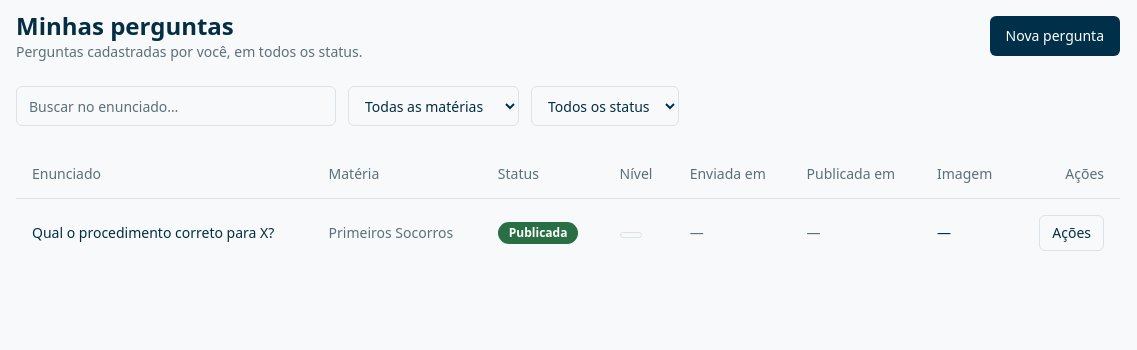
Test case: PartnerQuestionsPage › não mostra ação de excluir numa pergunta publicada
expect the text "Qual o procedimento correto para X?" is shown: met, box [16,198,312,266]
Click the button "Ações". click: {"x": 1072, "y": 232}
box: [1039,214,1104,250]
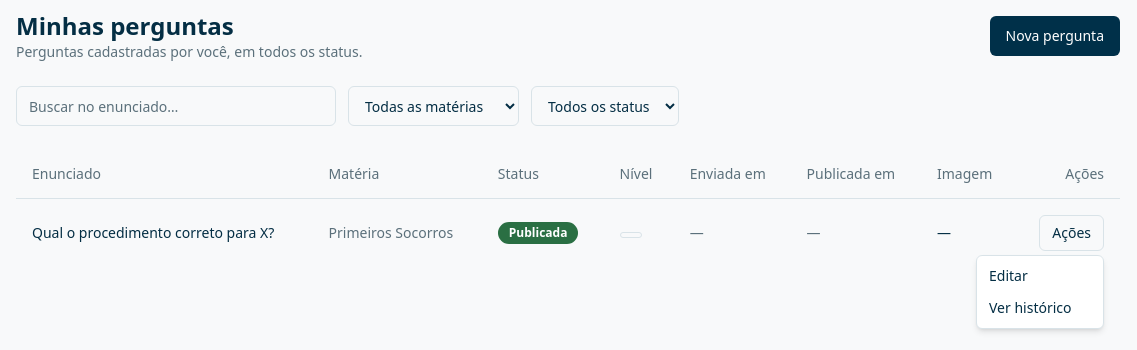
expect the menu item "Editar" is shown: met, box [989,266,1028,285]
